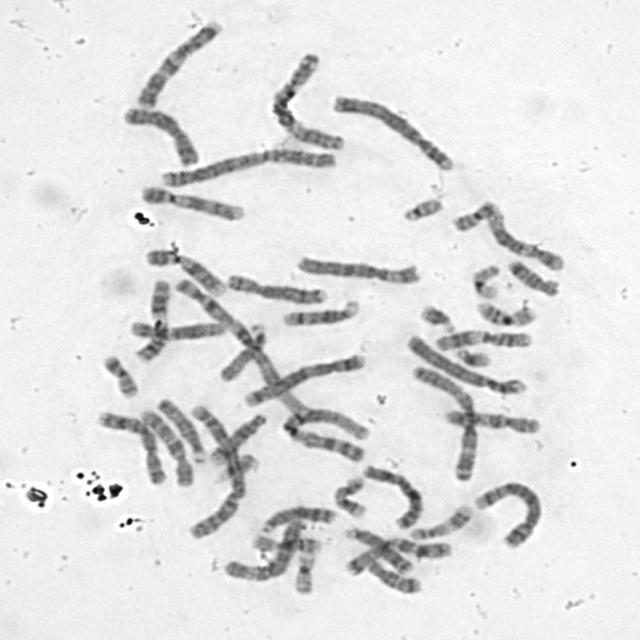A1: (172, 277, 310, 416), (282, 404, 369, 464)
A2: (186, 402, 248, 541), (160, 147, 338, 190)
A3: (402, 365, 482, 484), (268, 48, 348, 152)
B4: (330, 88, 459, 173), (403, 334, 530, 396)
B5: (244, 354, 366, 411), (472, 479, 546, 550)
C10: (137, 406, 195, 488), (440, 408, 544, 436)
C11: (134, 277, 170, 364), (435, 328, 534, 352)
C12: (484, 206, 566, 270), (128, 320, 227, 340)
C6: (223, 517, 304, 584), (294, 253, 423, 287)
C7: (134, 16, 226, 112), (347, 534, 458, 578)
C8: (94, 409, 168, 486), (227, 271, 328, 305)
C9: (146, 248, 230, 298), (141, 186, 246, 222)
D13: (342, 528, 416, 574), (259, 506, 338, 533)
D14: (205, 411, 271, 466), (282, 298, 361, 329)
D15: (155, 399, 209, 464), (217, 322, 266, 383)
E16: (475, 298, 539, 328), (248, 532, 324, 554)
E17: (408, 503, 476, 541), (332, 474, 370, 519)
E18: (364, 558, 422, 596), (507, 258, 562, 297)
F19: (290, 550, 319, 596), (469, 264, 500, 302)
F20: (96, 355, 140, 399), (451, 197, 500, 233)
G21: (417, 303, 458, 334), (456, 346, 494, 370)
G22: (210, 450, 258, 487), (403, 197, 445, 224)
X: (121, 106, 200, 167), (361, 465, 425, 531)
